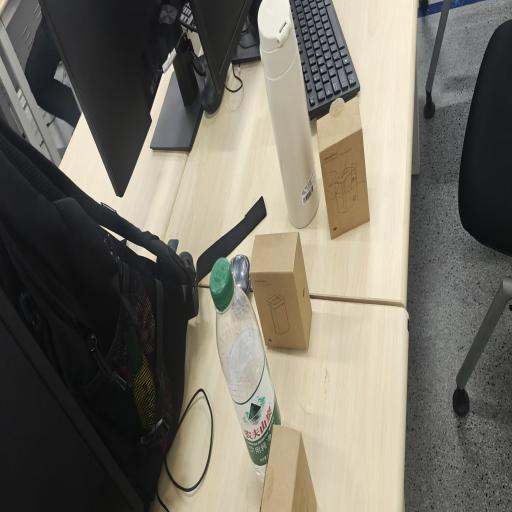bottle: (210, 258, 281, 482), (258, 0, 319, 228)
box: (317, 97, 370, 239), (250, 232, 312, 350), (260, 424, 316, 512)
